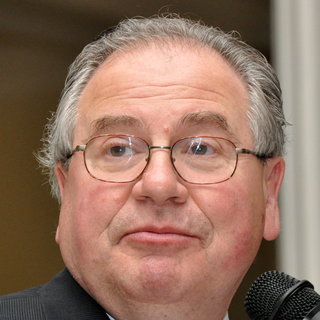eye: (180, 136, 223, 162), (98, 138, 142, 161)
